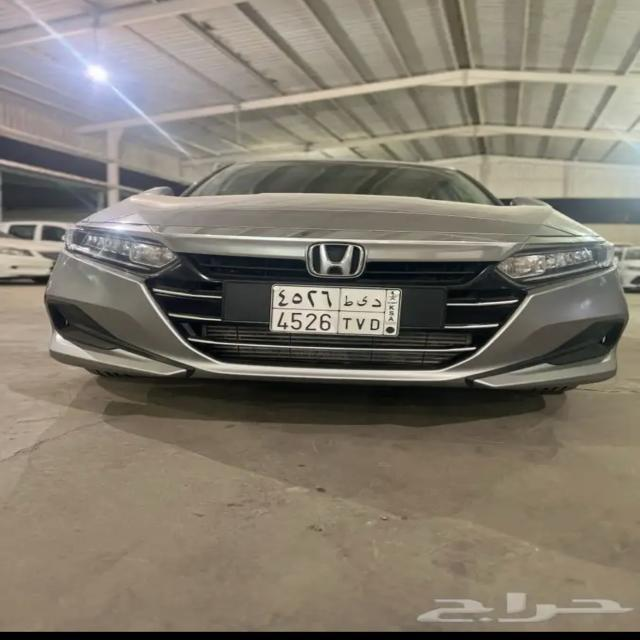license_plate: (272, 284, 402, 339)
